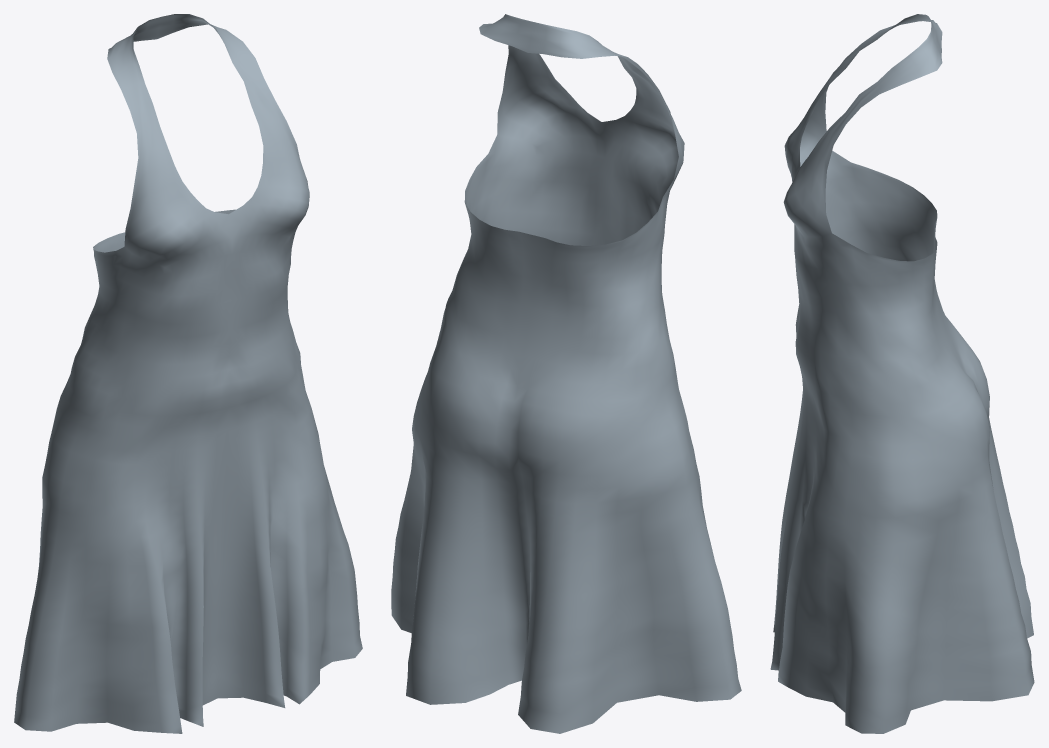
Rendered from dress.glb.
The picture shows the model from 3 angles, left to right: view 1: azimuth 30°, elevation 25°; view 2: azimuth 150°, elevation 25°; view 3: azimuth 270°, elevation 25°; orthographic projection. The views are drawn at different scales.
Visible parts, largest first — view 1: Dress; view 2: Dress; view 3: Dress.
Boxes of the visible parts, x1,y1,x2,y2 form: Dress: (14, 14, 362, 733); Dress: (391, 14, 741, 733); Dress: (770, 14, 1034, 733).
Size of the model in its own units: 0.4891 by 0.9027 by 0.3411.
